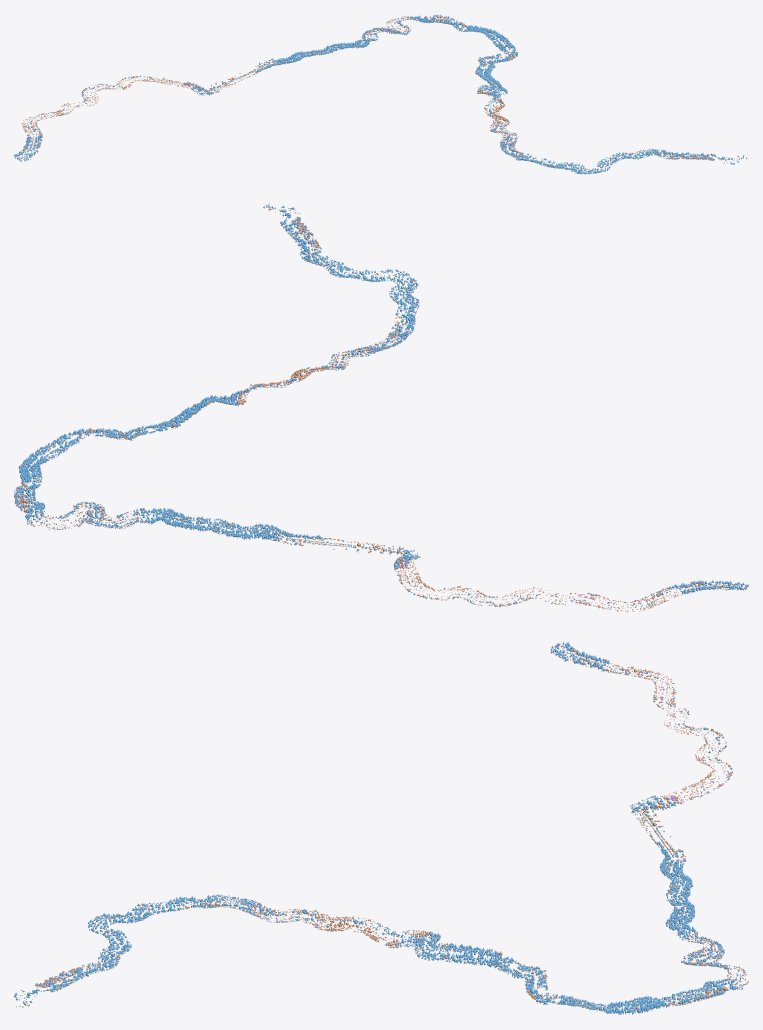
File: arbres.glb
3 views of the same model, one above another, from view 1: azimuth 30°, elevation 25°; view 2: azimuth 150°, elevation 25°; view 3: azimuth 270°, elevation 25° (orthographic). The views are drawn at different scales.
Visible parts, largest first — view 1: arbres_pin_alep, arbres_chene_vert, arbres_chene_pubescent; view 2: arbres_pin_alep, arbres_chene_vert; view 3: arbres_pin_alep, arbres_chene_vert, arbres_chene_pubescent.
Part boxes in pixels (x1,y1,x2,y2): arbres_pin_alep: (14, 14, 746, 174); arbres_chene_vert: (18, 15, 746, 173); arbres_chene_pubescent: (17, 15, 748, 162); arbres_pin_alep: (14, 205, 748, 609); arbres_chene_vert: (14, 204, 745, 612); arbres_pin_alep: (14, 641, 746, 1014); arbres_chene_vert: (19, 647, 748, 1014); arbres_chene_pubescent: (16, 643, 745, 1006).
Size of the model in its own units: 3358 by 177 by 2783.
